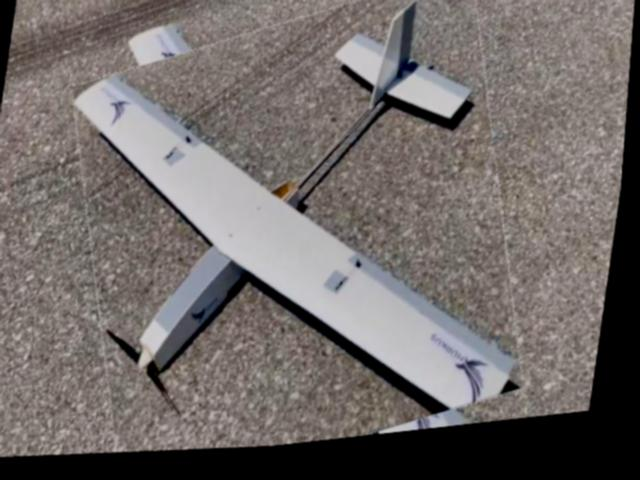insansiz-hava-araci: (50, 0, 559, 473)
